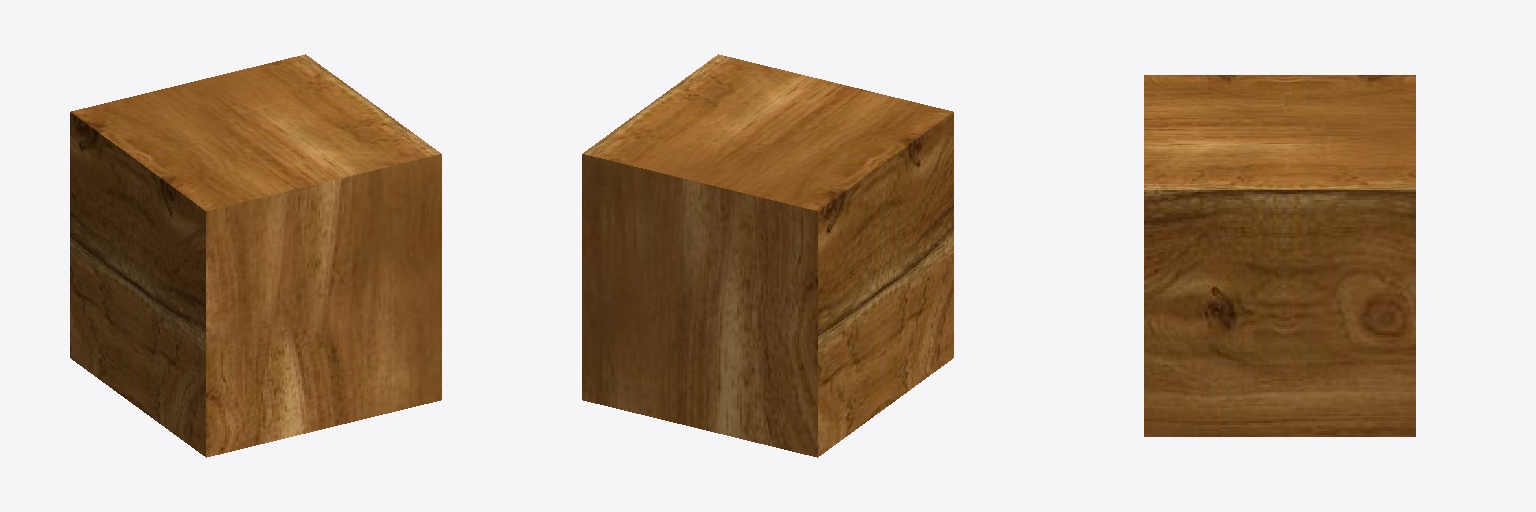
The picture shows the model from 3 angles: view 1: azimuth 30°, elevation 25°; view 2: azimuth 150°, elevation 25°; view 3: azimuth 270°, elevation 25°; orthographic projection.
Parts seen in each view (by area): view 1: cube; view 2: cube; view 3: cube.
Part boxes in pixels (bbox=[...]): cube: bbox=[70, 54, 441, 457]; cube: bbox=[582, 54, 953, 457]; cube: bbox=[1144, 75, 1415, 436].
Size of the model in its own units: 1 by 1 by 1.
Materials: 1 (1 with a texture image).